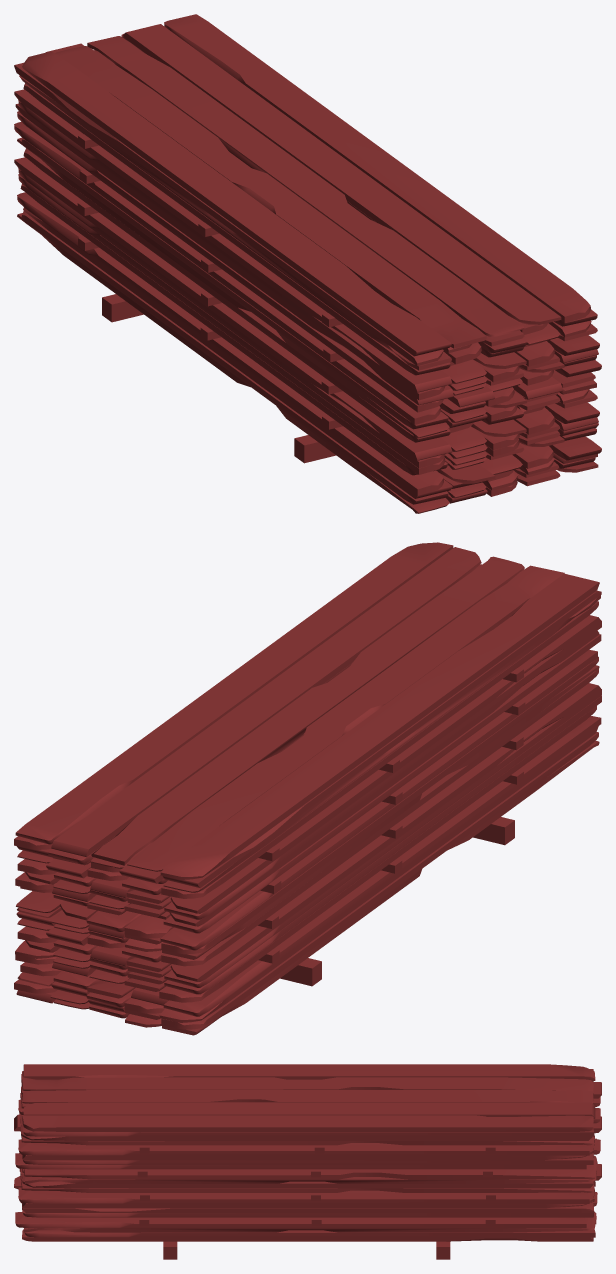
The model's file is SM_WoodPlankPack11.fbx.
3 renders of one model, top to bottom at view 1: azimuth 30°, elevation 25°; view 2: azimuth 150°, elevation 25°; view 3: azimuth 270°, elevation 25°, orthographic. The views are drawn at different scales.
Visible parts, largest first — view 1: WoodPlankPack11; view 2: WoodPlankPack11; view 3: WoodPlankPack11.
Part boxes in pixels (x1,y1,x2,y2): WoodPlankPack11: [14, 14, 601, 513]; WoodPlankPack11: [14, 542, 601, 1035]; WoodPlankPack11: [14, 1064, 601, 1259].
Bounding box in the file's own units: 89.99 × 74.01 × 308.
